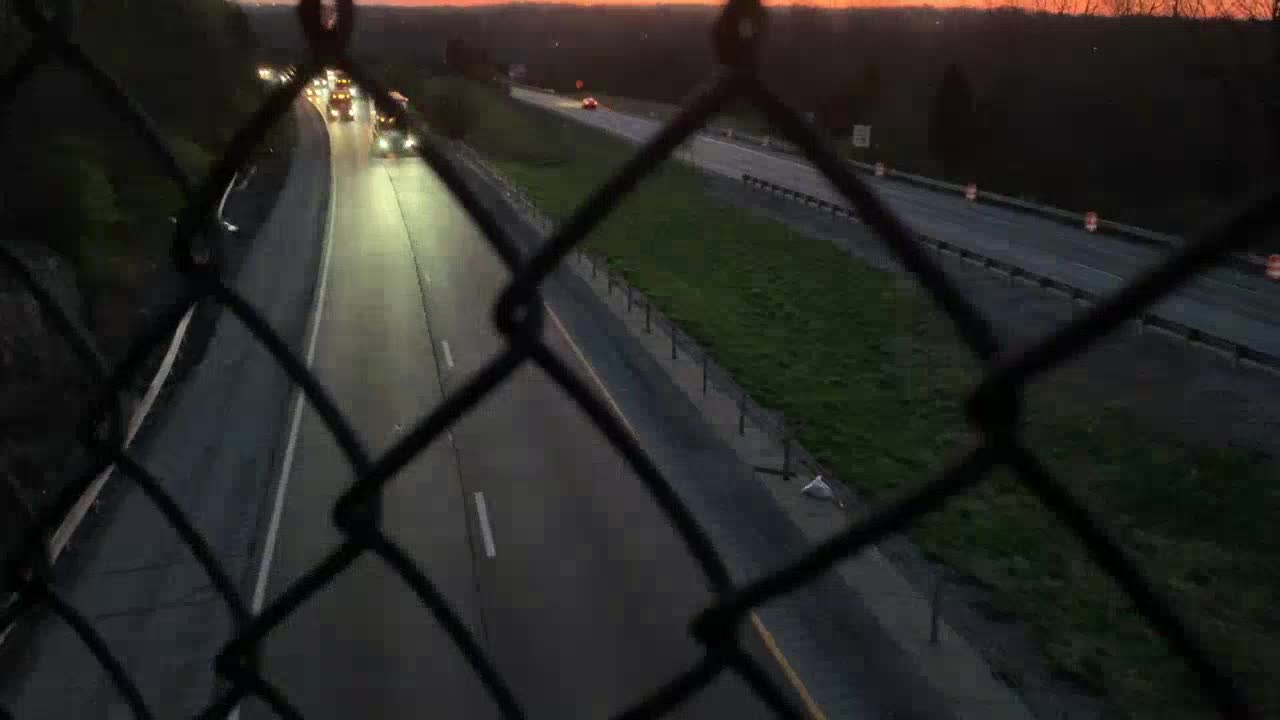heavyTruck: (365, 90, 424, 164), (322, 86, 356, 125)
largeCar: (578, 94, 603, 115)
